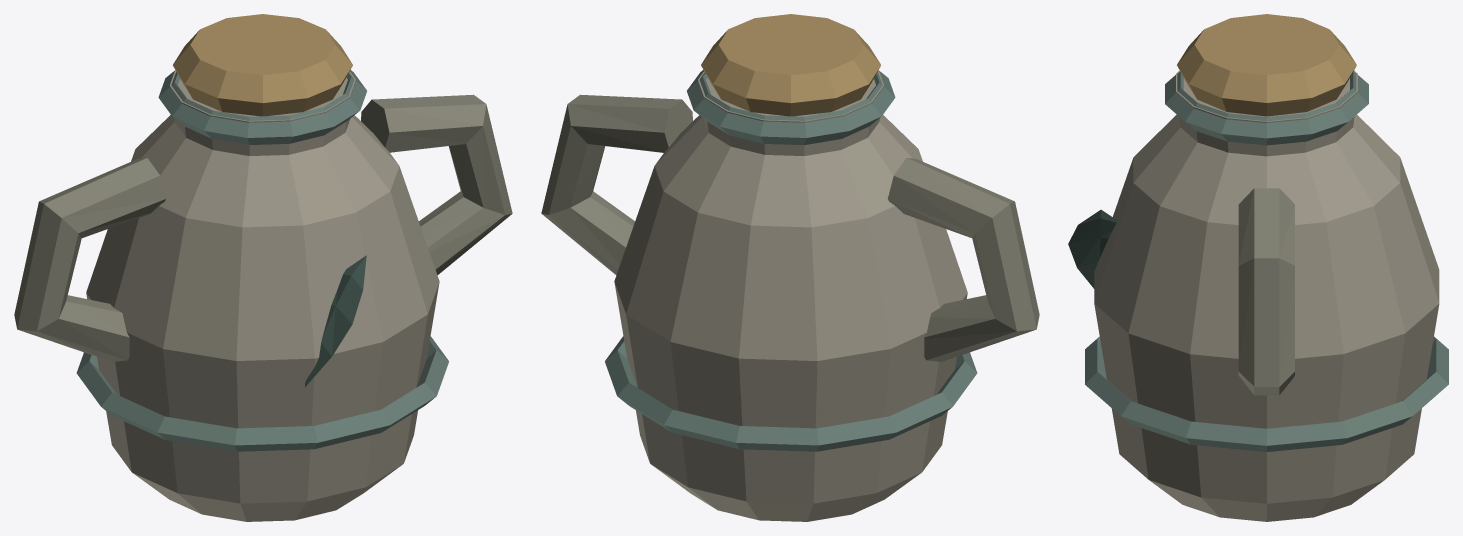
File: goat_milk.glb
The picture shows the model from 3 angles, left to right: view 1: azimuth 30°, elevation 25°; view 2: azimuth 150°, elevation 25°; view 3: azimuth 270°, elevation 25°; orthographic projection.
Parts seen in each view (by area): view 1: geometry; view 2: geometry; view 3: geometry.
Boxes of the visible parts, bbox=[...] form: geometry: bbox=[14, 14, 512, 521]; geometry: bbox=[541, 14, 1039, 521]; geometry: bbox=[1068, 14, 1448, 521].
Size of the model in its own units: 0.3506 by 0.296 by 0.2366.
